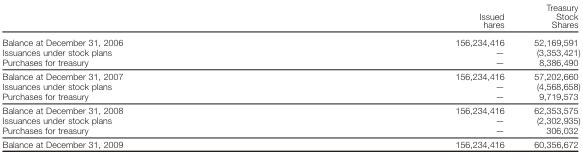table: (1, 1, 579, 149)
table column: (1, 1, 288, 149), (288, 1, 518, 149), (518, 1, 579, 149)
table column header: (1, 1, 579, 32)
table row: (1, 1, 579, 32), (1, 32, 579, 46), (1, 56, 579, 68), (1, 68, 579, 80), (1, 91, 579, 103), (1, 103, 579, 115), (1, 125, 579, 137), (1, 137, 579, 149), (1, 80, 579, 91), (1, 46, 579, 56), (1, 115, 579, 125)
